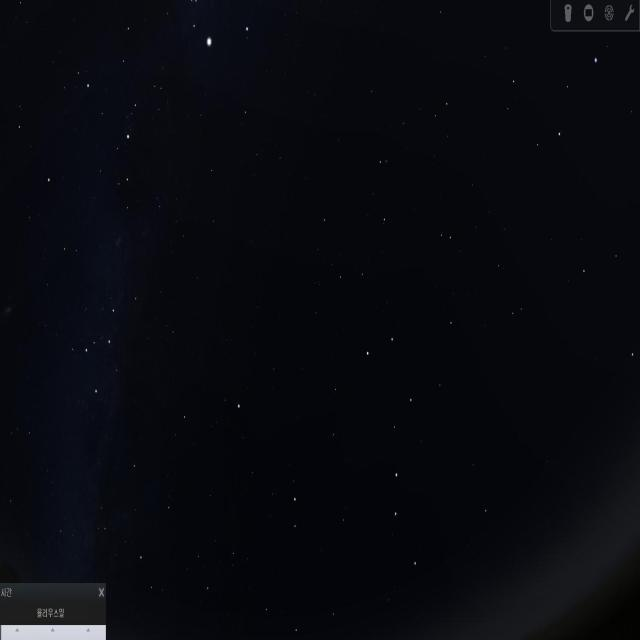cassiopeia: (77, 284, 140, 416)
ursa_major: (362, 330, 426, 572)
